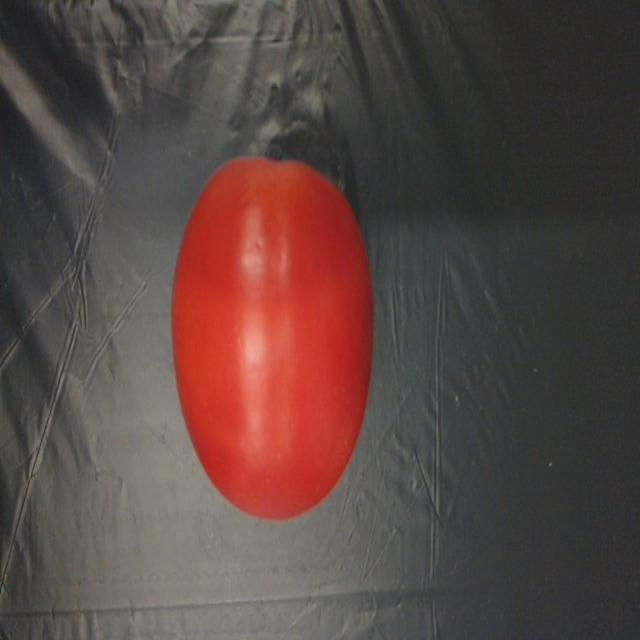kirmizi: (174, 141, 374, 539)
